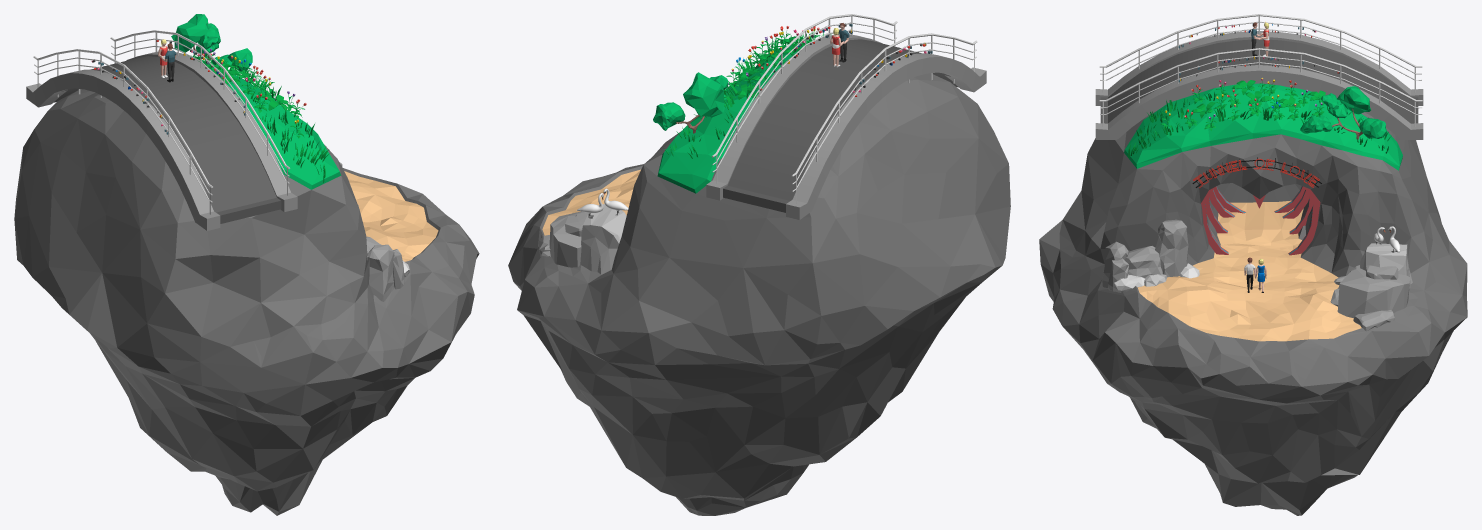
Rendered from land_52.fbx.
3 renders of one model, left to right at view 1: azimuth 30°, elevation 25°; view 2: azimuth 150°, elevation 25°; view 3: azimuth 270°, elevation 25°, orthographic. The views are drawn at different scales.
Parts seen in each view (by area): view 1: land_52.338, land_52.231, land_52.237, land_52.191, land_86.141, land_52.236, land_52.233; view 2: land_52.338, land_52.231, land_52.199, land_52.191, land_52.237, land_52.198, land_52.236, land_52.233; view 3: land_52.338, land_52.231, land_52.198, land_52.230, land_52.237, land_52.191, land_86.150, land_52.199, land_52.236, land_86.146, land_52.233, land_52.228 (+2 smaller).
Part boxes in pixels (<box>): land_52.338: <box>14,61,479,515</box>; land_52.231: <box>26,51,297,230</box>; land_52.237: <box>33,49,212,214</box>; land_52.191: <box>171,14,252,71</box>; land_86.141: <box>367,244,394,301</box>; land_52.236: <box>111,38,289,183</box>; land_52.233: <box>110,30,290,169</box>; land_52.338: <box>508,44,1010,515</box>; land_52.231: <box>706,34,986,219</box>; land_52.199: <box>580,204,626,274</box>; land_52.191: <box>653,72,728,133</box>; land_52.237: <box>791,33,977,202</box>; land_52.198: <box>549,211,583,267</box>; land_52.236: <box>712,22,896,172</box>; land_52.233: <box>711,14,897,157</box>; land_52.338: <box>1039,83,1467,515</box>; land_52.231: <box>1095,31,1423,139</box>; land_52.198: <box>1337,265,1409,318</box>; land_52.230: <box>1201,186,1320,255</box>; land_52.237: <box>1099,14,1422,92</box>; land_52.191: <box>1300,86,1386,139</box>; land_86.150: <box>1155,219,1188,277</box>; land_52.199: <box>1360,243,1412,288</box>; land_52.236: <box>1100,55,1422,114</box>; land_86.146: <box>1124,246,1162,277</box>; land_52.233: <box>1099,48,1422,101</box>; land_52.228: <box>1193,158,1319,187</box>.
Bounding box in the file's own units: 19.76 × 22.45 × 19.61.
